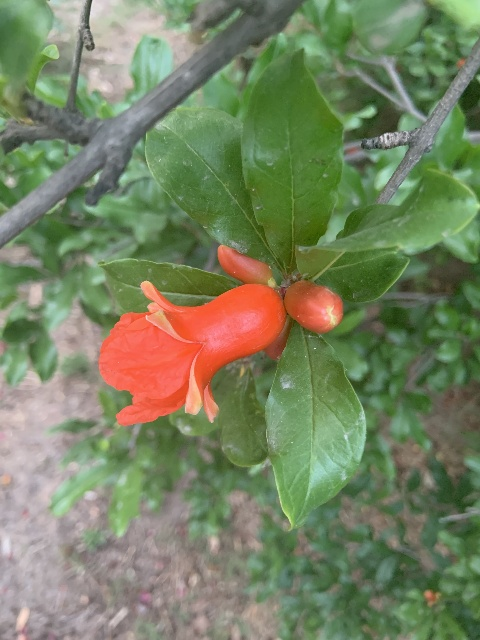bud: (285, 280, 343, 334), (216, 244, 273, 285), (264, 314, 293, 360)
flower: (98, 279, 284, 426)
